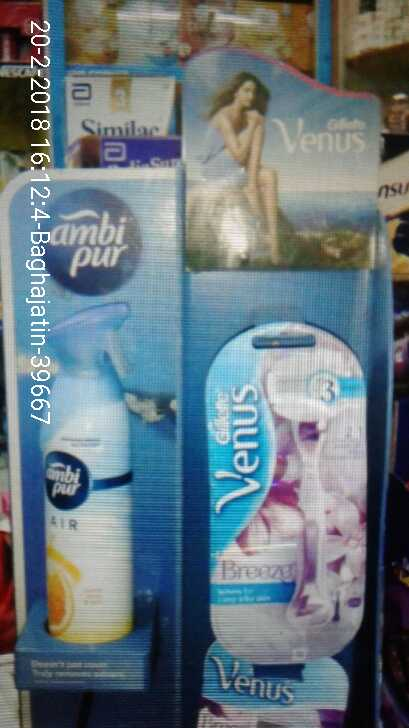beauty: (198, 317, 380, 659)
home: (27, 288, 148, 652)
